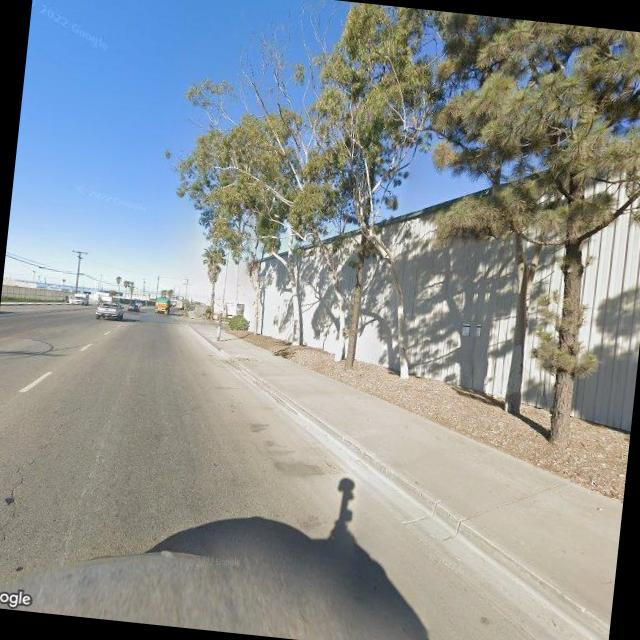crack: (0, 427, 54, 592)
